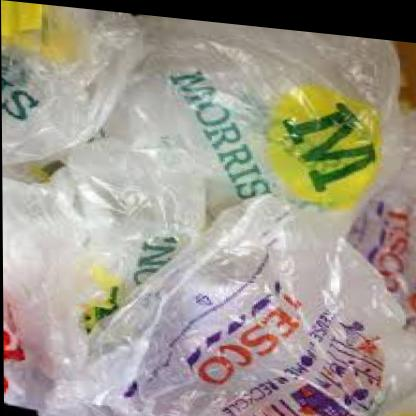Plastic: (6, 10, 416, 416)
